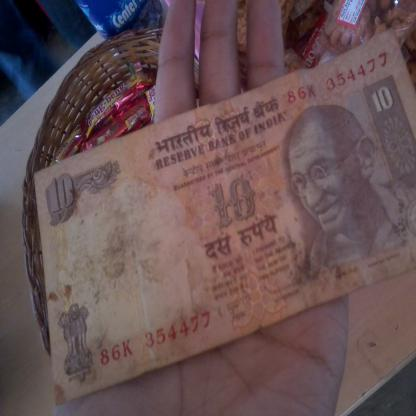Old10Front: (33, 29, 416, 410)
